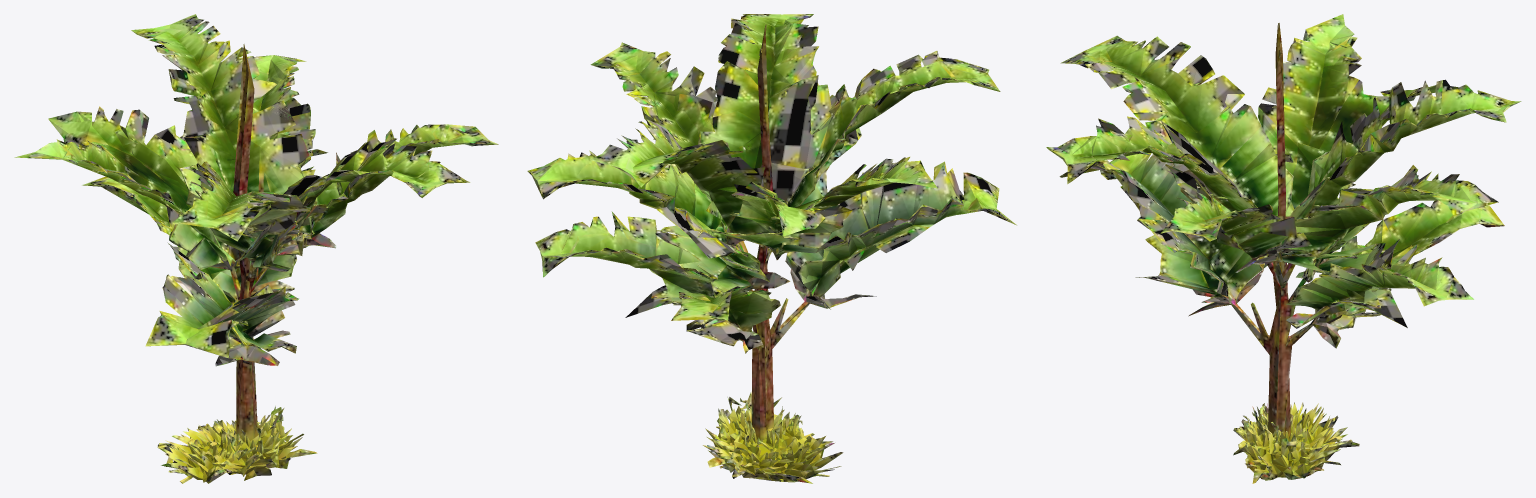
Rendered from nature_fern_01.glb.
3 views of the same model, side by side, from view 1: azimuth 30°, elevation 25°; view 2: azimuth 150°, elevation 25°; view 3: azimuth 270°, elevation 25° (orthographic). The views are drawn at different scales.
Visible parts, largest first — view 1: geometry_0; view 2: geometry_0; view 3: geometry_0.
Part boxes in pixels (x1,y1,x2,y2): geometry_0: [14, 14, 498, 483]; geometry_0: [527, 14, 1016, 483]; geometry_0: [1046, 14, 1521, 483].
Bounding box in the file's own units: 0.9828 × 0.9997 × 0.9777.
Materials: 1 (1 with a texture image).
